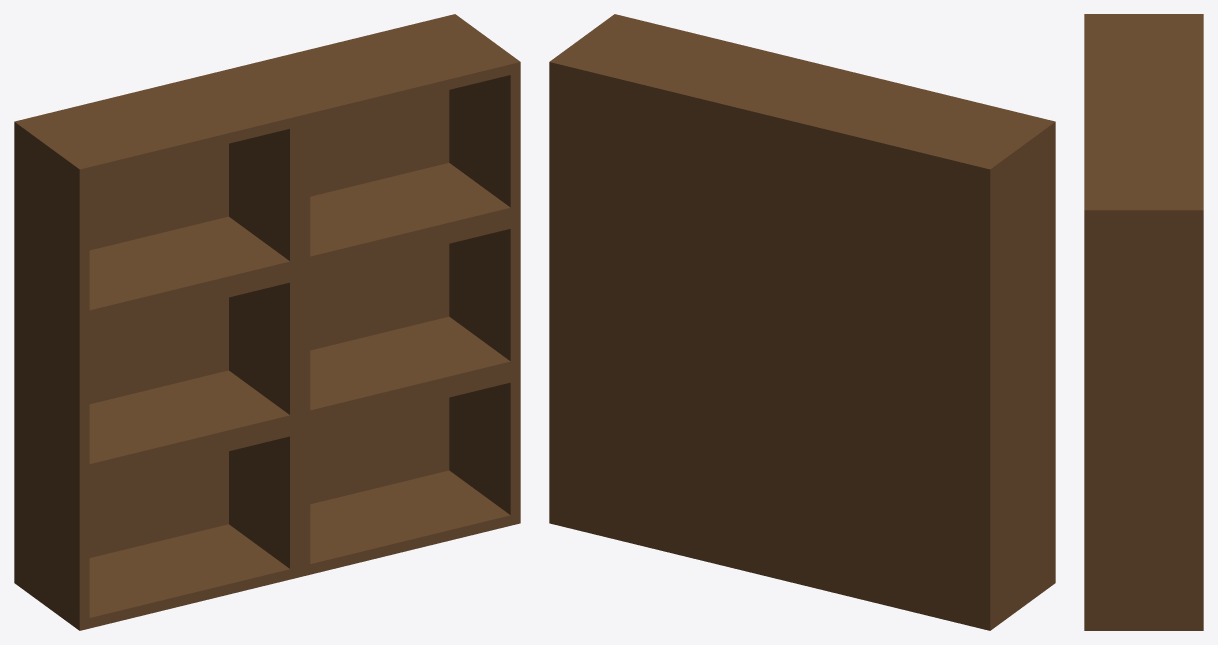
File: Shelf_1.fbx
3 views of the same model, side by side, from view 1: azimuth 30°, elevation 25°; view 2: azimuth 150°, elevation 25°; view 3: azimuth 270°, elevation 25° (orthographic). The views are drawn at different scales.
Visible parts, largest first — view 1: Shelf_1; view 2: Shelf_1; view 3: Shelf_1.
Boxes of the visible parts, bbox=[...] form: Shelf_1: bbox=[14, 14, 520, 630]; Shelf_1: bbox=[549, 14, 1055, 630]; Shelf_1: bbox=[1084, 14, 1203, 630].
Bounding box in the file's own units: 175 × 175 × 45.
